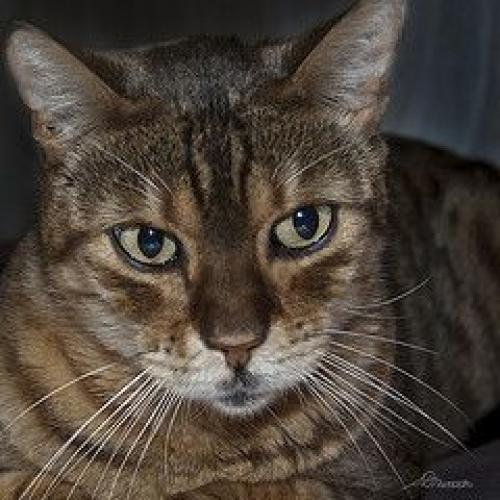bengal: (1, 1, 439, 429)
